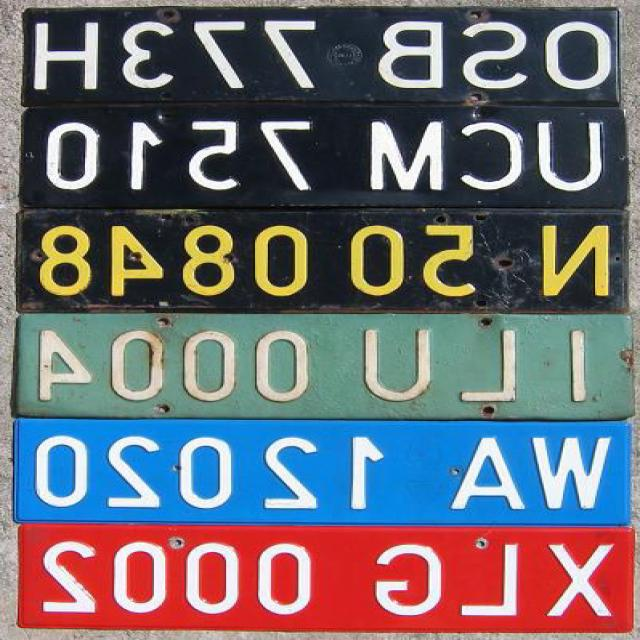pl_license_plate: (21, 526, 638, 630), (16, 314, 634, 415), (19, 421, 632, 519), (22, 212, 629, 307), (28, 108, 622, 205), (27, 7, 618, 98)
